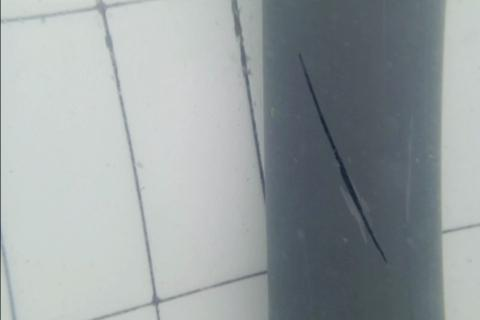keretakan: (299, 52, 390, 266)
